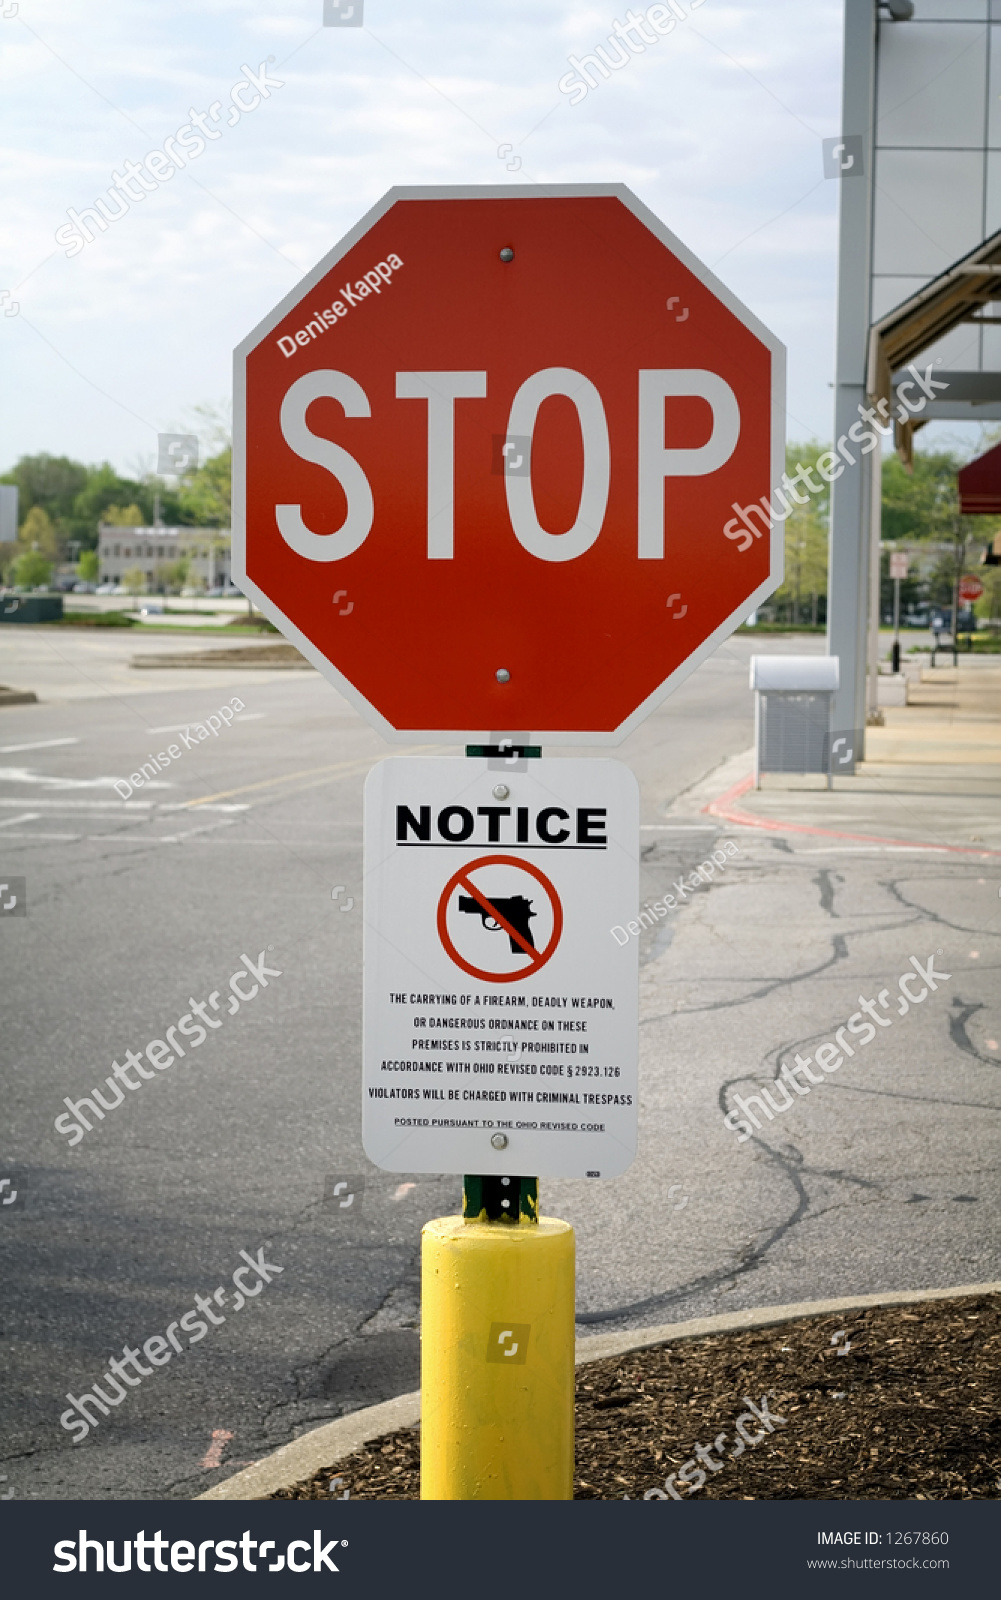stopsign: (235, 184, 787, 740)
